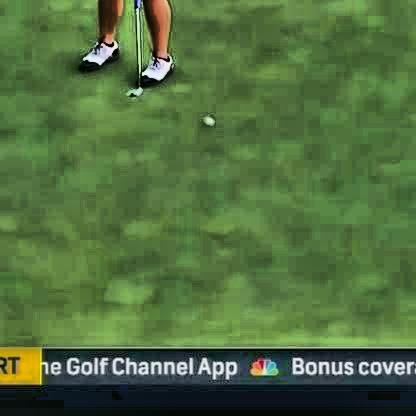golfball: (199, 113, 215, 126)
